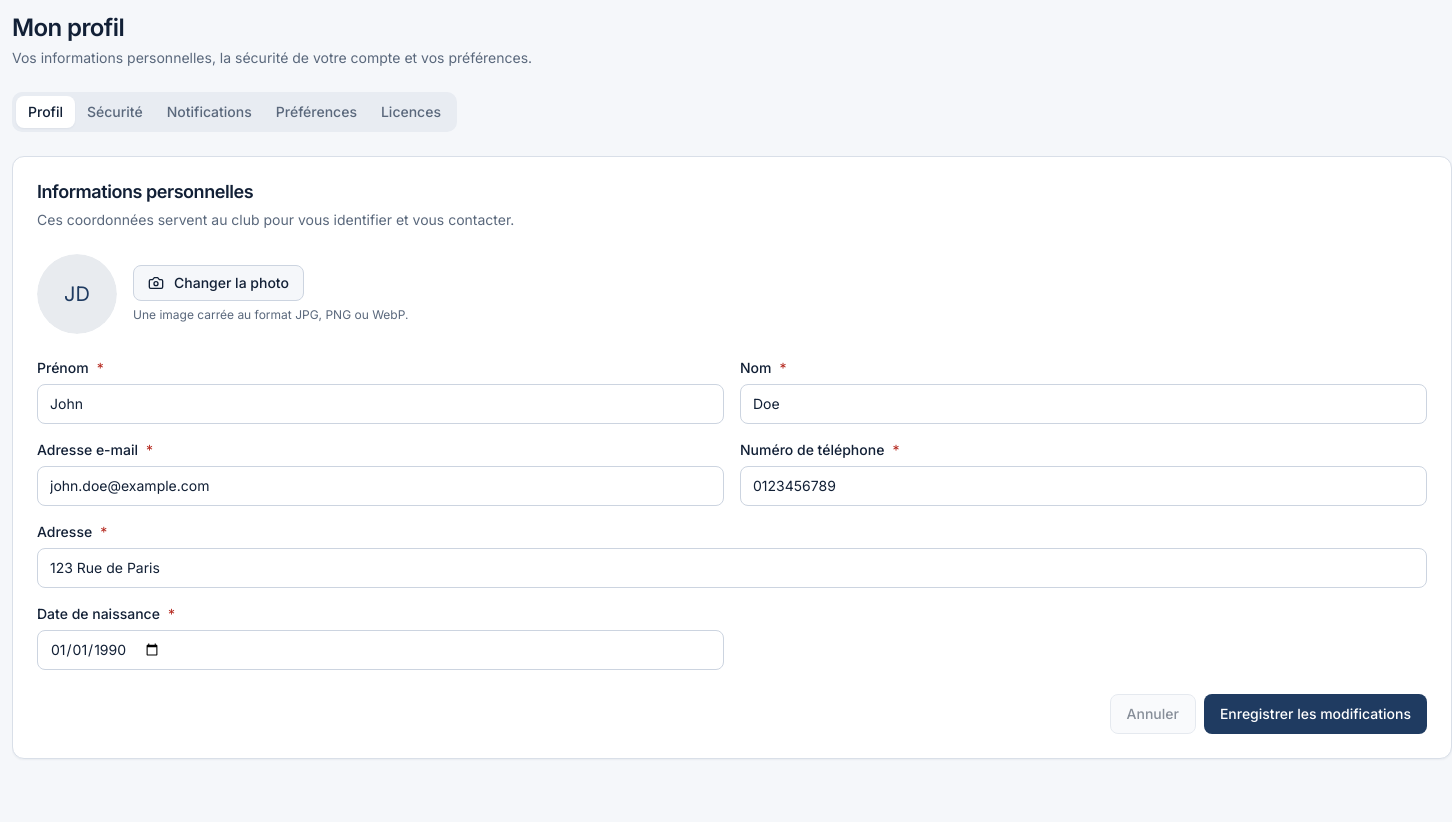
Test: ProfilePage Component › annule les modifications non enregistrées du profil
Expected: the button "Annuler" is disabled, 1110,694 -> 1196,734
Clear the field labelled "Prénom": [380, 404] box 37,384 -> 724,424
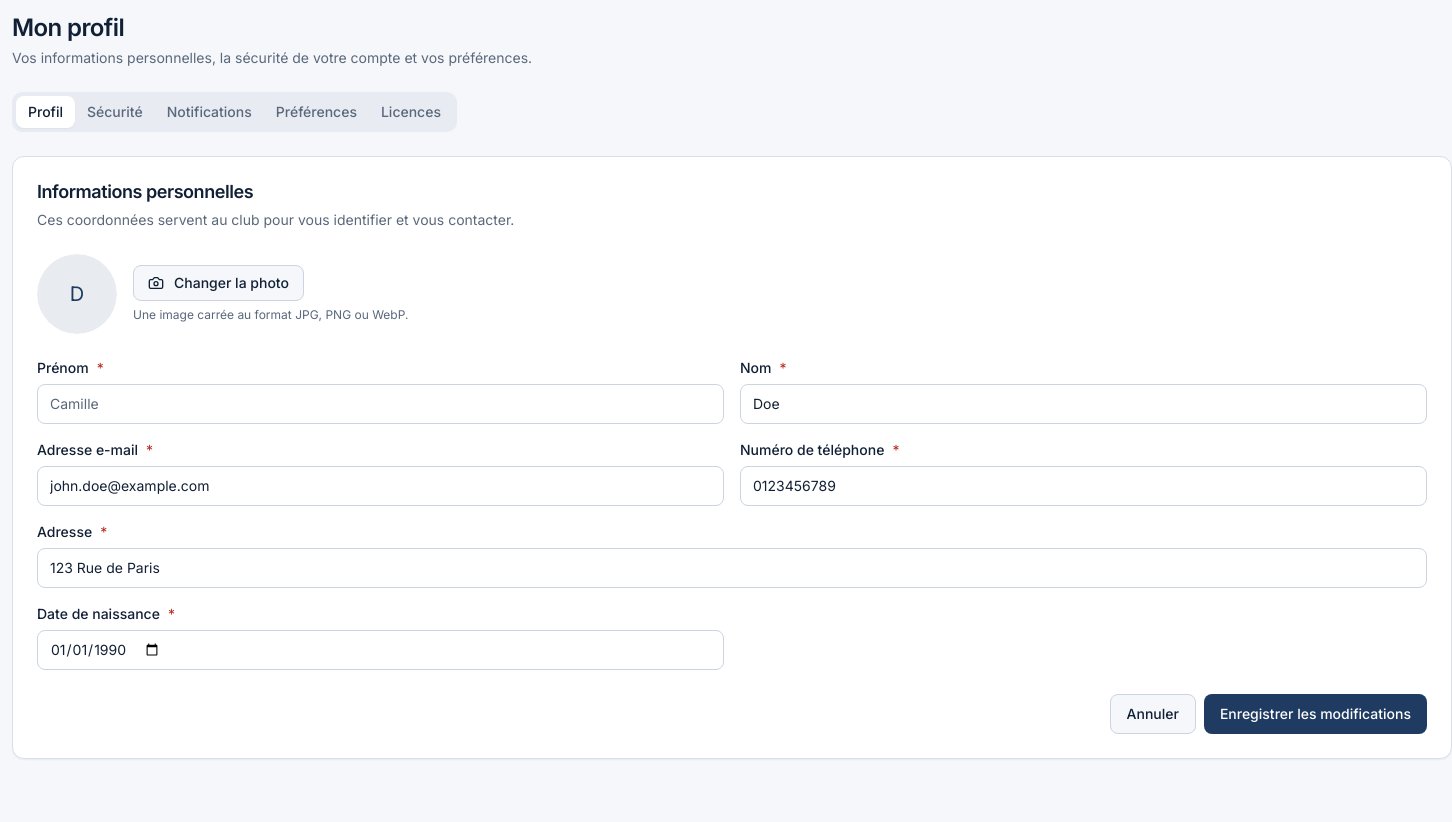
Click the button "Enregistrer les modifications": [1315, 714] box 1204,694 -> 1427,734
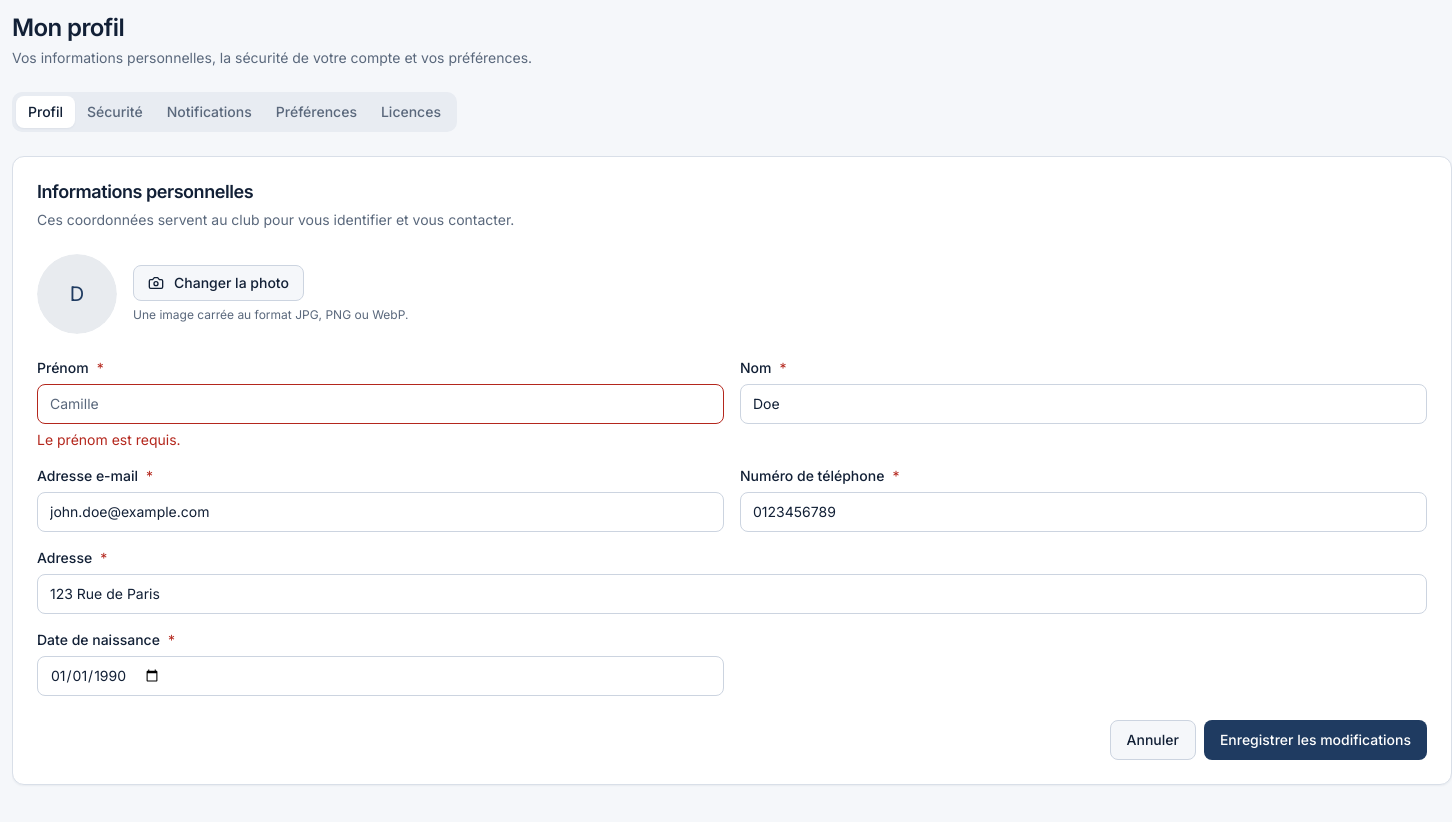
Expected: the button "Annuler" is enabled
Expected: the text "Le prénom est requis." is shown, 37,430 -> 181,448
Click the button "Annuler": [1153, 740] box 1110,720 -> 1196,760
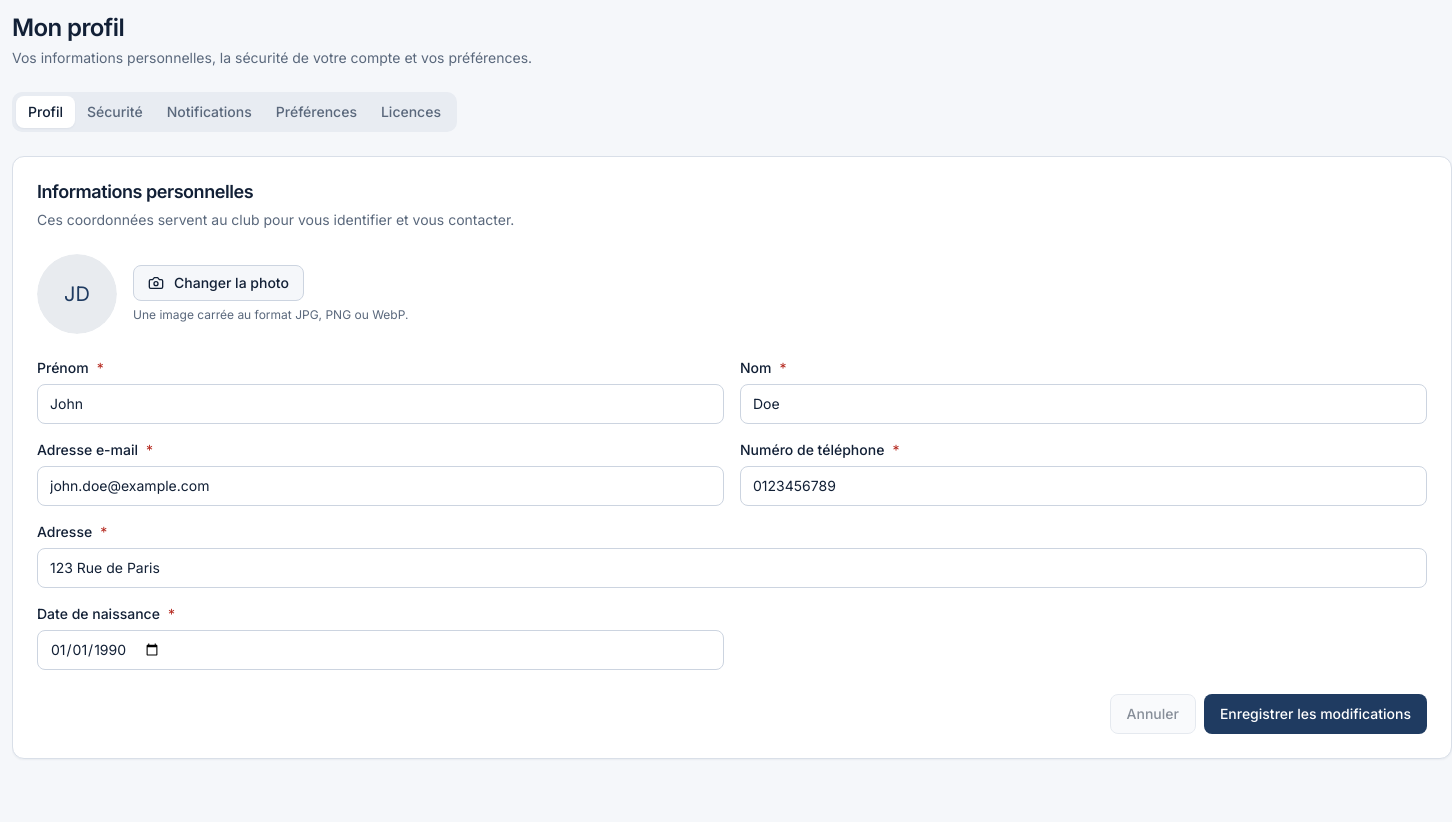
Expected: the field labelled "Prénom" holds "John", 37,384 -> 724,424
Expected: the text "Le prénom est requis." is gone
Expected: the button "Annuler" is disabled, 1110,694 -> 1196,734
